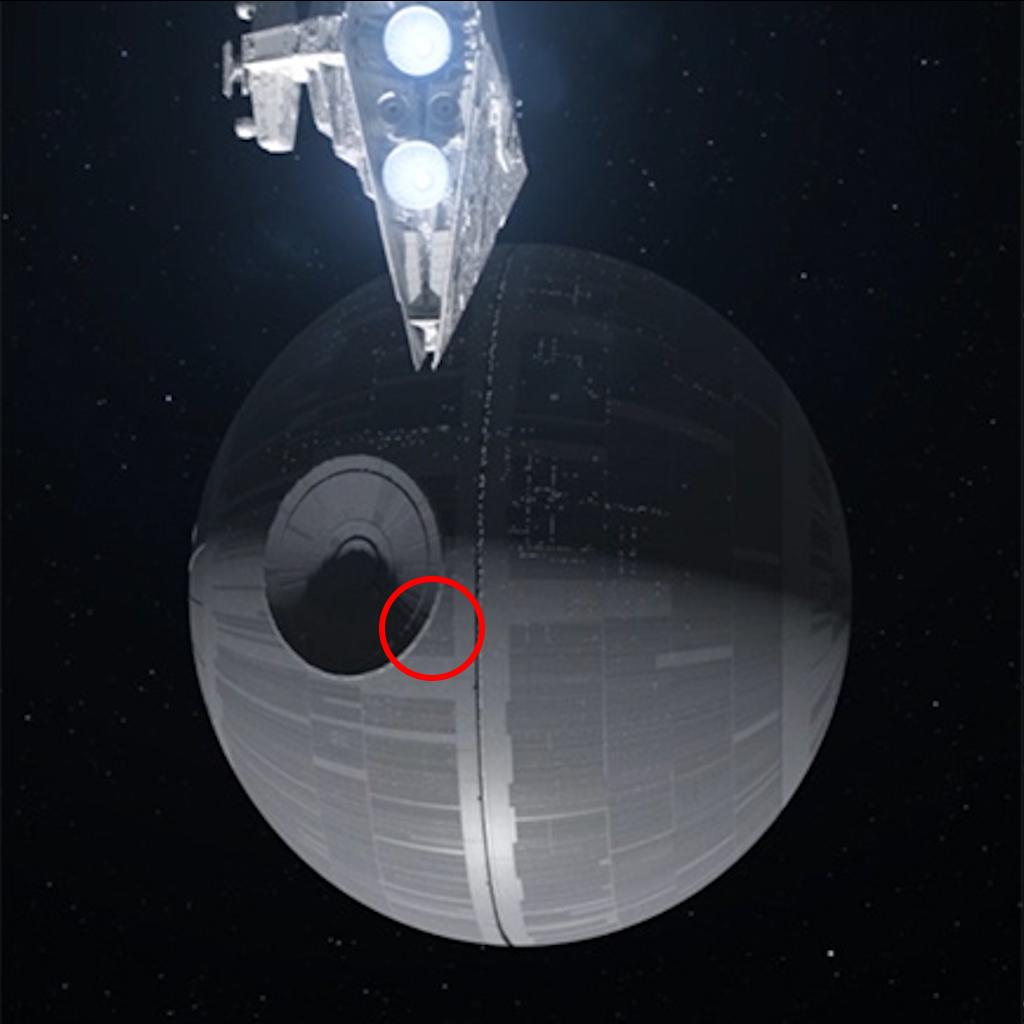Death-star: (189, 240, 861, 948)
